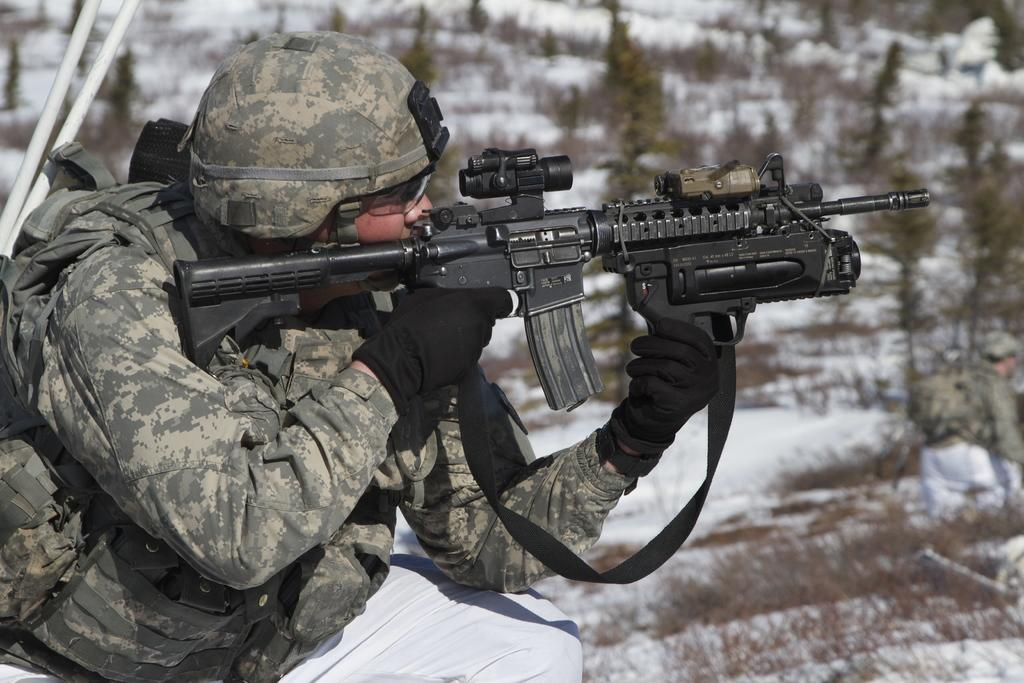Rifle: (175, 151, 931, 406)
